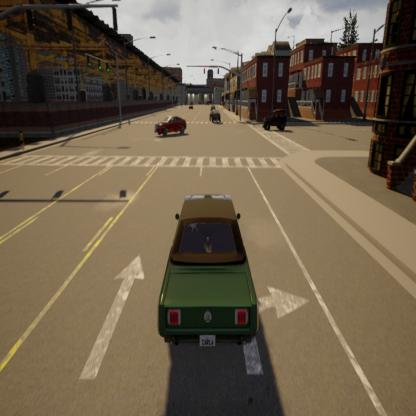Cars: (137, 192, 269, 366), (153, 112, 190, 146), (262, 105, 290, 134), (206, 106, 224, 126)
